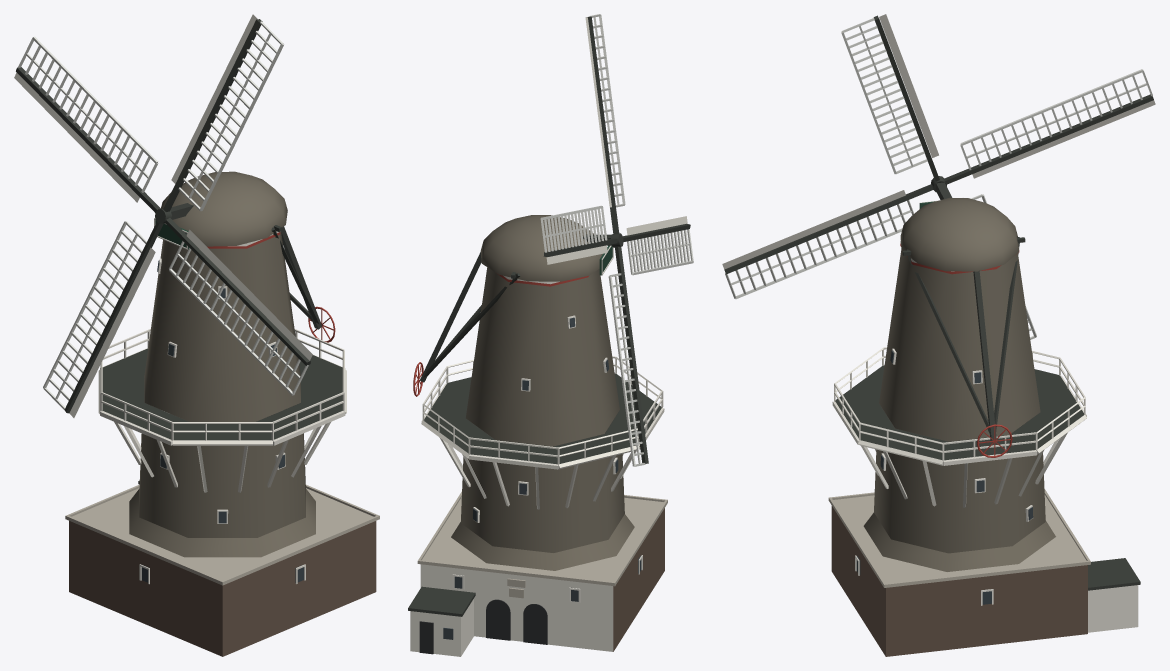
File: de-bloem.glb
3 renders of one model, left to right at view 1: azimuth 30°, elevation 25°; view 2: azimuth 150°, elevation 25°; view 3: azimuth 270°, elevation 25°, orthographic. The views are drawn at different scales.
Visible parts, largest first — view 1: de-bloem; view 2: de-bloem; view 3: de-bloem.
Part boxes in pixels (x1,y1,x2,y2): de-bloem: (14, 14, 379, 656); de-bloem: (408, 14, 693, 656); de-bloem: (722, 14, 1155, 656).
Size of the model in its own units: 16.64 by 36.86 by 24.76.
